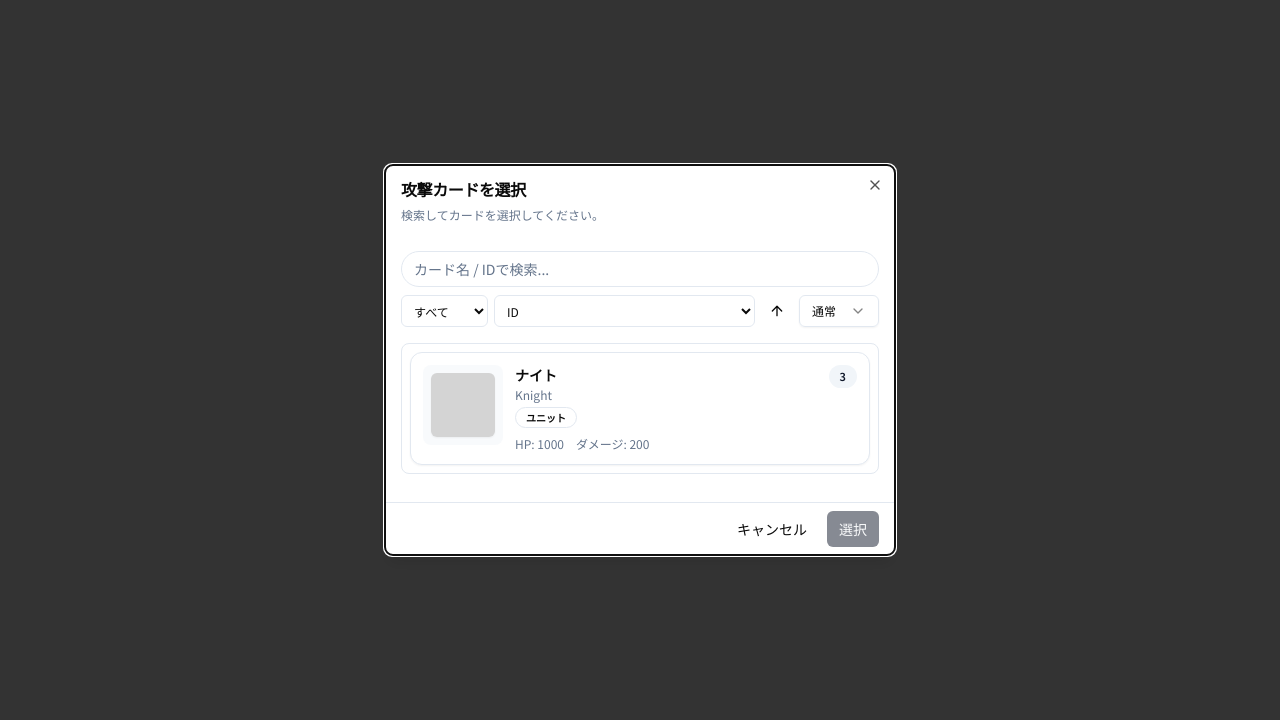
Test: SelectCardOverlay (shadcn) › renders list after delay and allows selection
This screenshot has width=1280, height=720.
Check: the text "Loading..." is shown, box [401, 343, 879, 474]
Click the text "ナイト" at (536, 375), box [515, 365, 557, 385]
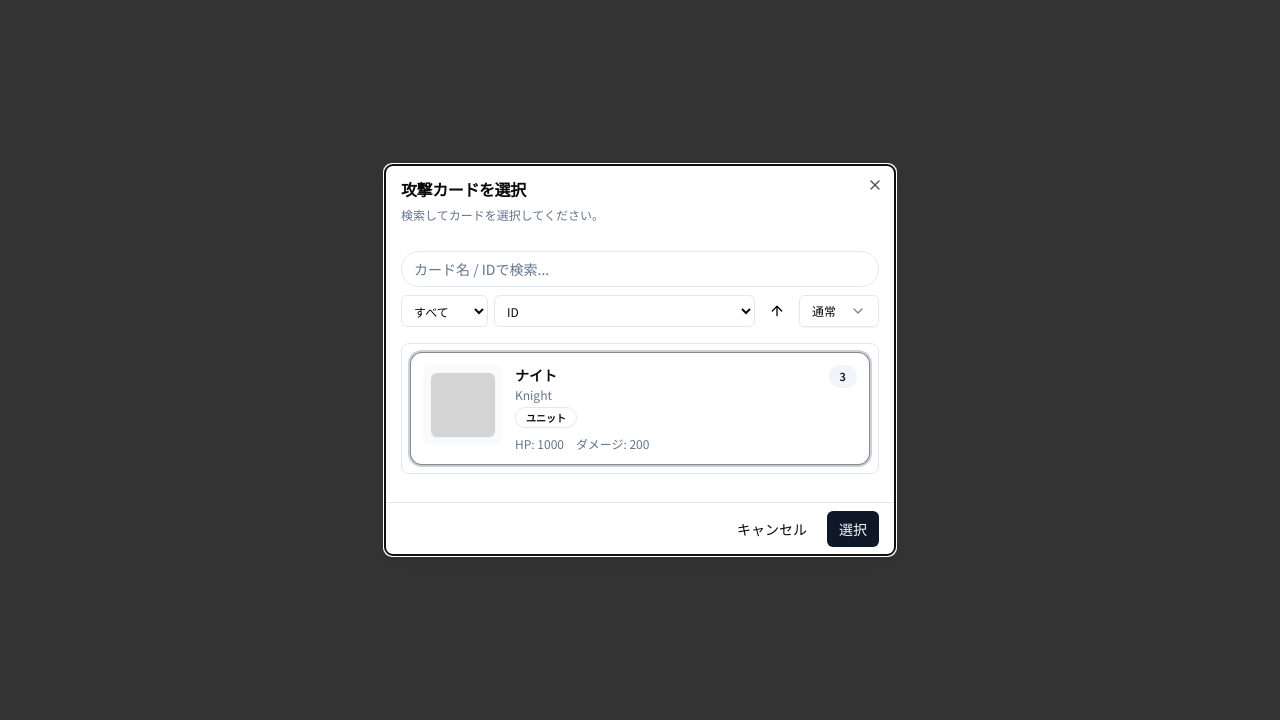
Check: the button "選択" is enabled, box [827, 511, 879, 547]
